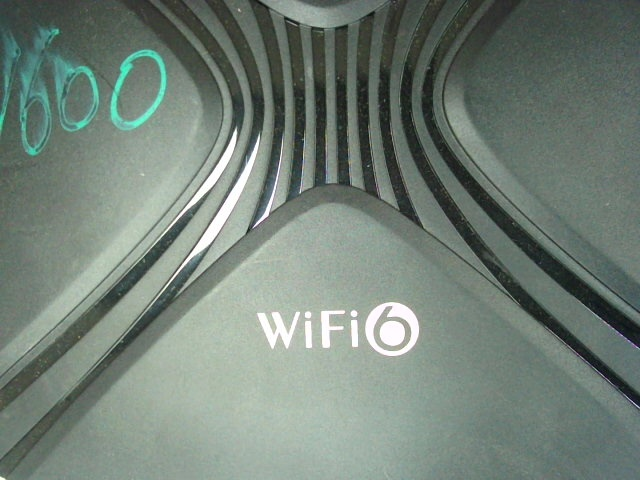AK_ZTEWIFI6Black: (236, 297, 431, 359)
